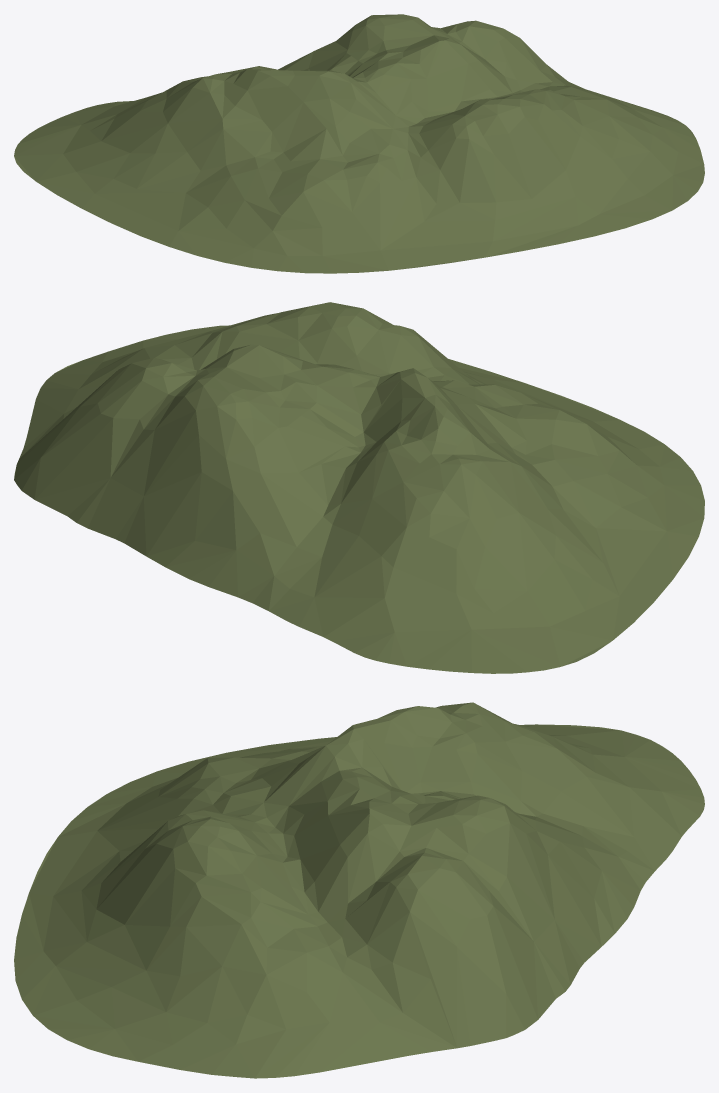
The model's file is SM_Envr_Nature_Mountain_11_01.fbx.
3 views of the same model, one above another, from view 1: azimuth 30°, elevation 25°; view 2: azimuth 150°, elevation 25°; view 3: azimuth 270°, elevation 25° (orthographic). The views are drawn at different scales.
Parts seen in each view (by area): view 1: SM_Envr_Nature_Mountain_11_01; view 2: SM_Envr_Nature_Mountain_11_01; view 3: SM_Envr_Nature_Mountain_11_01.
Boxes of the visible parts, left/top/right/bottom form: SM_Envr_Nature_Mountain_11_01: left=14, top=14, right=704, bottom=273; SM_Envr_Nature_Mountain_11_01: left=14, top=302, right=704, bottom=673; SM_Envr_Nature_Mountain_11_01: left=14, top=702, right=704, bottom=1078.
Bounding box in the file's own units: 40159 × 7469 × 33066.
